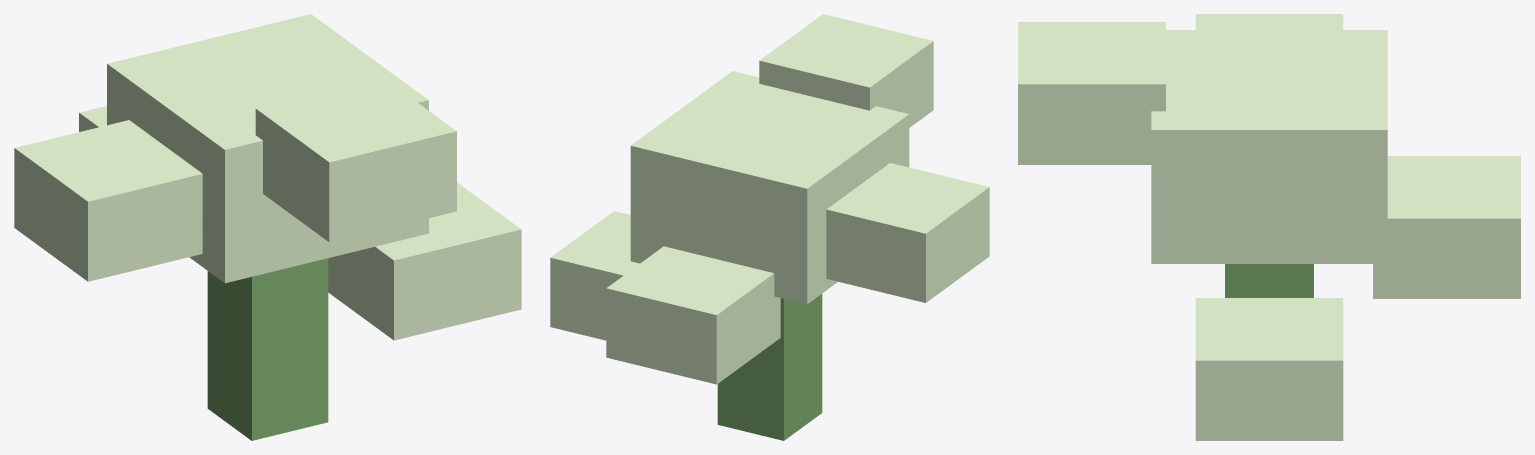
File: Prop_DS_Herb_ParityPetal_S1_V3.glb
The picture shows the model from 3 angles, left to right: view 1: azimuth 30°, elevation 25°; view 2: azimuth 150°, elevation 25°; view 3: azimuth 270°, elevation 25°; orthographic projection. The views are drawn at different scales.
Parts seen in each view (by area): view 1: Prop_DS_Herb_ParityPetal_S1_V3; view 2: Prop_DS_Herb_ParityPetal_S1_V3; view 3: Prop_DS_Herb_ParityPetal_S1_V3.
Boxes of the visible parts, x1,y1,x2,y2 form: Prop_DS_Herb_ParityPetal_S1_V3: (14,14,521,440); Prop_DS_Herb_ParityPetal_S1_V3: (550,14,989,440); Prop_DS_Herb_ParityPetal_S1_V3: (1018,14,1520,440).
Bounding box in the file's own units: 0.34 × 0.27 × 0.34.
